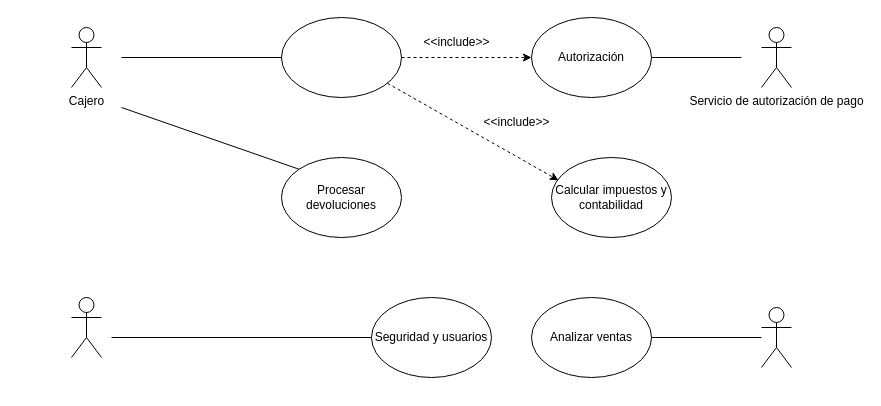
Image size: 881x406. Some labels were removed from this diagram. The centre of each missing label's shape, as x and y in pixels:
"Administrador del sistema" goes at point 86,327.
"Analista" goes at point 776,337.
"Procesar venta" goes at point 341,57.
